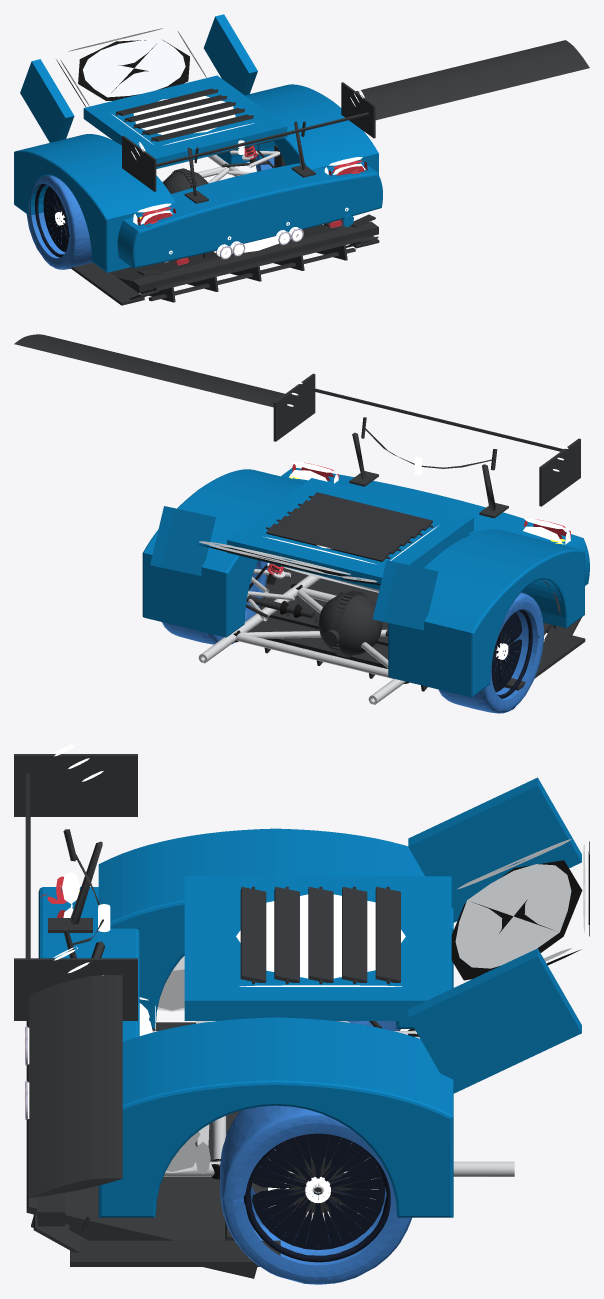
File: rear_car_assembly_exploded.glb
3 renders of one model, top to bottom at view 1: azimuth 30°, elevation 25°; view 2: azimuth 150°, elevation 25°; view 3: azimuth 270°, elevation 25°, orthographic. The views are drawn at different scales.
Parts seen in each view (by area): view 1: Fastback_C_Pillar_Buttress_LH, Adjustable_Kick_Plane_LH, Tinted_Rear_Backlite_Glass, 335_Compound_Tire_LH, Cutout_Valve_Actuator_Motor_LH, Brake_Hardline_To_Upright_LH, Forged_Wheel_Rim_Barrel_LH, Backlite_EPDM_Encapsulation_Seal, Adjustable_Spring_Perk_LH, CShaped_OLED_Taillight_Cluster_LH; view 2: Fastback_C_Pillar_Buttress_LH, Adjustable_Kick_Plane_LH, Adjustable_Spring_Perk_LH, Brake_Hardline_To_Upright_LH, 335_Compound_Tire_LH, Forged_Wheel_Rim_Barrel_LH, Cutout_Valve_Actuator_Motor_LH, Tinted_Rear_Backlite_Glass, Backlite_EPDM_Encapsulation_Seal; view 3: Fastback_C_Pillar_Buttress_LH, Adjustable_Kick_Plane_LH, Forged_Wheel_Rim_Barrel_LH, 335_Compound_Tire_LH, Tinted_Rear_Backlite_Glass, Adjustable_Spring_Perk_LH, Cutout_Valve_Actuator_Motor_LH, Backlite_EPDM_Encapsulation_Seal, Brake_Hardline_To_Upright_LH, CarbonCeramic_Brake_Rotor_LH, Centerlock_Wheel_Nut_LH.
Part boxes in pixels (bbox=[...]): Fastback_C_Pillar_Buttress_LH: bbox=[14, 14, 382, 272]; Adjustable_Kick_Plane_LH: bbox=[34, 40, 589, 305]; Tinted_Rear_Backlite_Glass: bbox=[60, 28, 206, 106]; 335_Compound_Tire_LH: bbox=[26, 144, 274, 269]; Cutout_Valve_Actuator_Motor_LH: bbox=[112, 88, 365, 257]; Brake_Hardline_To_Upright_LH: bbox=[56, 89, 305, 229]; Forged_Wheel_Rim_Barrel_LH: bbox=[35, 184, 69, 257]; Backlite_EPDM_Encapsulation_Seal: bbox=[56, 40, 230, 173]; Adjustable_Spring_Perk_LH: bbox=[161, 150, 280, 262]; CShaped_OLED_Taillight_Cluster_LH: bbox=[137, 160, 367, 227]; Fastback_C_Pillar_Buttress_LH: bbox=[142, 468, 589, 697]; Adjustable_Kick_Plane_LH: bbox=[14, 334, 585, 691]; Adjustable_Spring_Perk_LH: bbox=[198, 566, 405, 704]; Brake_Hardline_To_Upright_LH: bbox=[245, 417, 556, 666]; 335_Compound_Tire_LH: bbox=[162, 560, 544, 713]; Forged_Wheel_Rim_Barrel_LH: bbox=[491, 609, 532, 698]; Cutout_Valve_Actuator_Motor_LH: bbox=[263, 380, 570, 564]; Tinted_Rear_Backlite_Glass: bbox=[199, 541, 377, 582]; Backlite_EPDM_Encapsulation_Seal: bbox=[199, 544, 409, 683]; Fastback_C_Pillar_Buttress_LH: bbox=[38, 777, 581, 1217]; Adjustable_Kick_Plane_LH: bbox=[14, 754, 400, 1278]; Forged_Wheel_Rim_Barrel_LH: bbox=[243, 1133, 390, 1262]; 335_Compound_Tire_LH: bbox=[220, 1021, 411, 1284]; Tinted_Rear_Backlite_Glass: bbox=[455, 839, 585, 968]; Adjustable_Spring_Perk_LH: bbox=[152, 956, 514, 1176]; Cutout_Valve_Actuator_Motor_LH: bbox=[25, 742, 405, 1188]; Backlite_EPDM_Encapsulation_Seal: bbox=[211, 841, 589, 1179]; Brake_Hardline_To_Upright_LH: bbox=[63, 829, 389, 1231]; CarbonCeramic_Brake_Rotor_LH: bbox=[266, 1137, 370, 1234]; Centerlock_Wheel_Nut_LH: bbox=[98, 904, 330, 1203].
Bounding box in the file's own units: 3.65 × 1.39 × 2.05.
